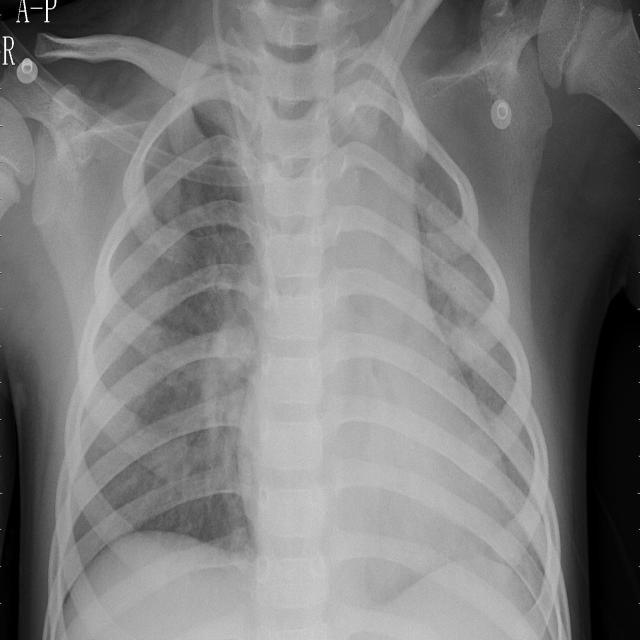low-pneumonia: (195, 270, 261, 498)
